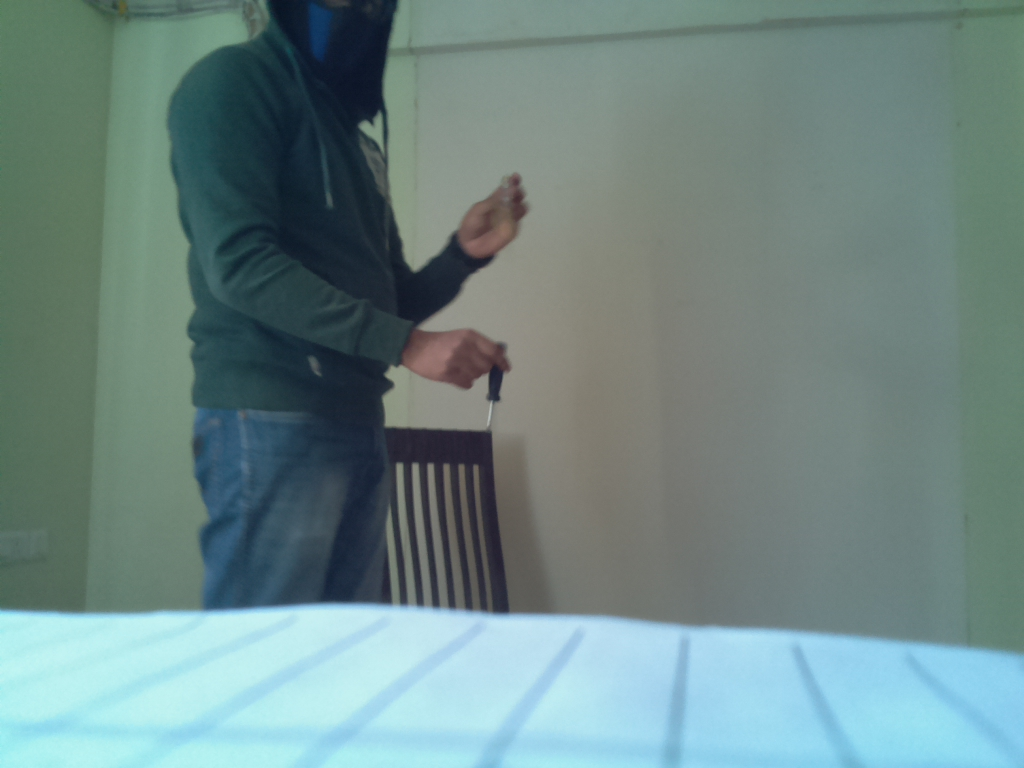none3: (482, 341, 510, 438)
